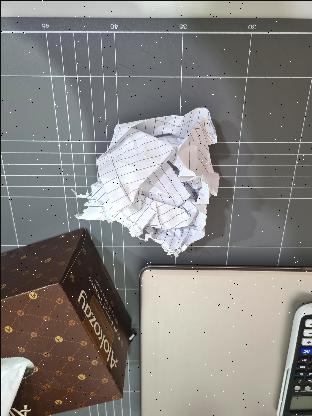Others: (60, 106, 218, 252)
